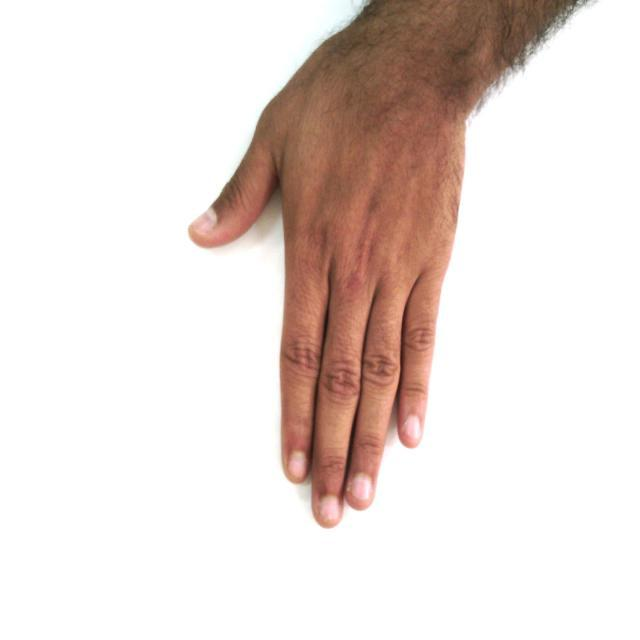Fingernail: (190, 209, 216, 233), (350, 476, 371, 503), (319, 497, 340, 524), (289, 451, 307, 482), (401, 416, 420, 441)
